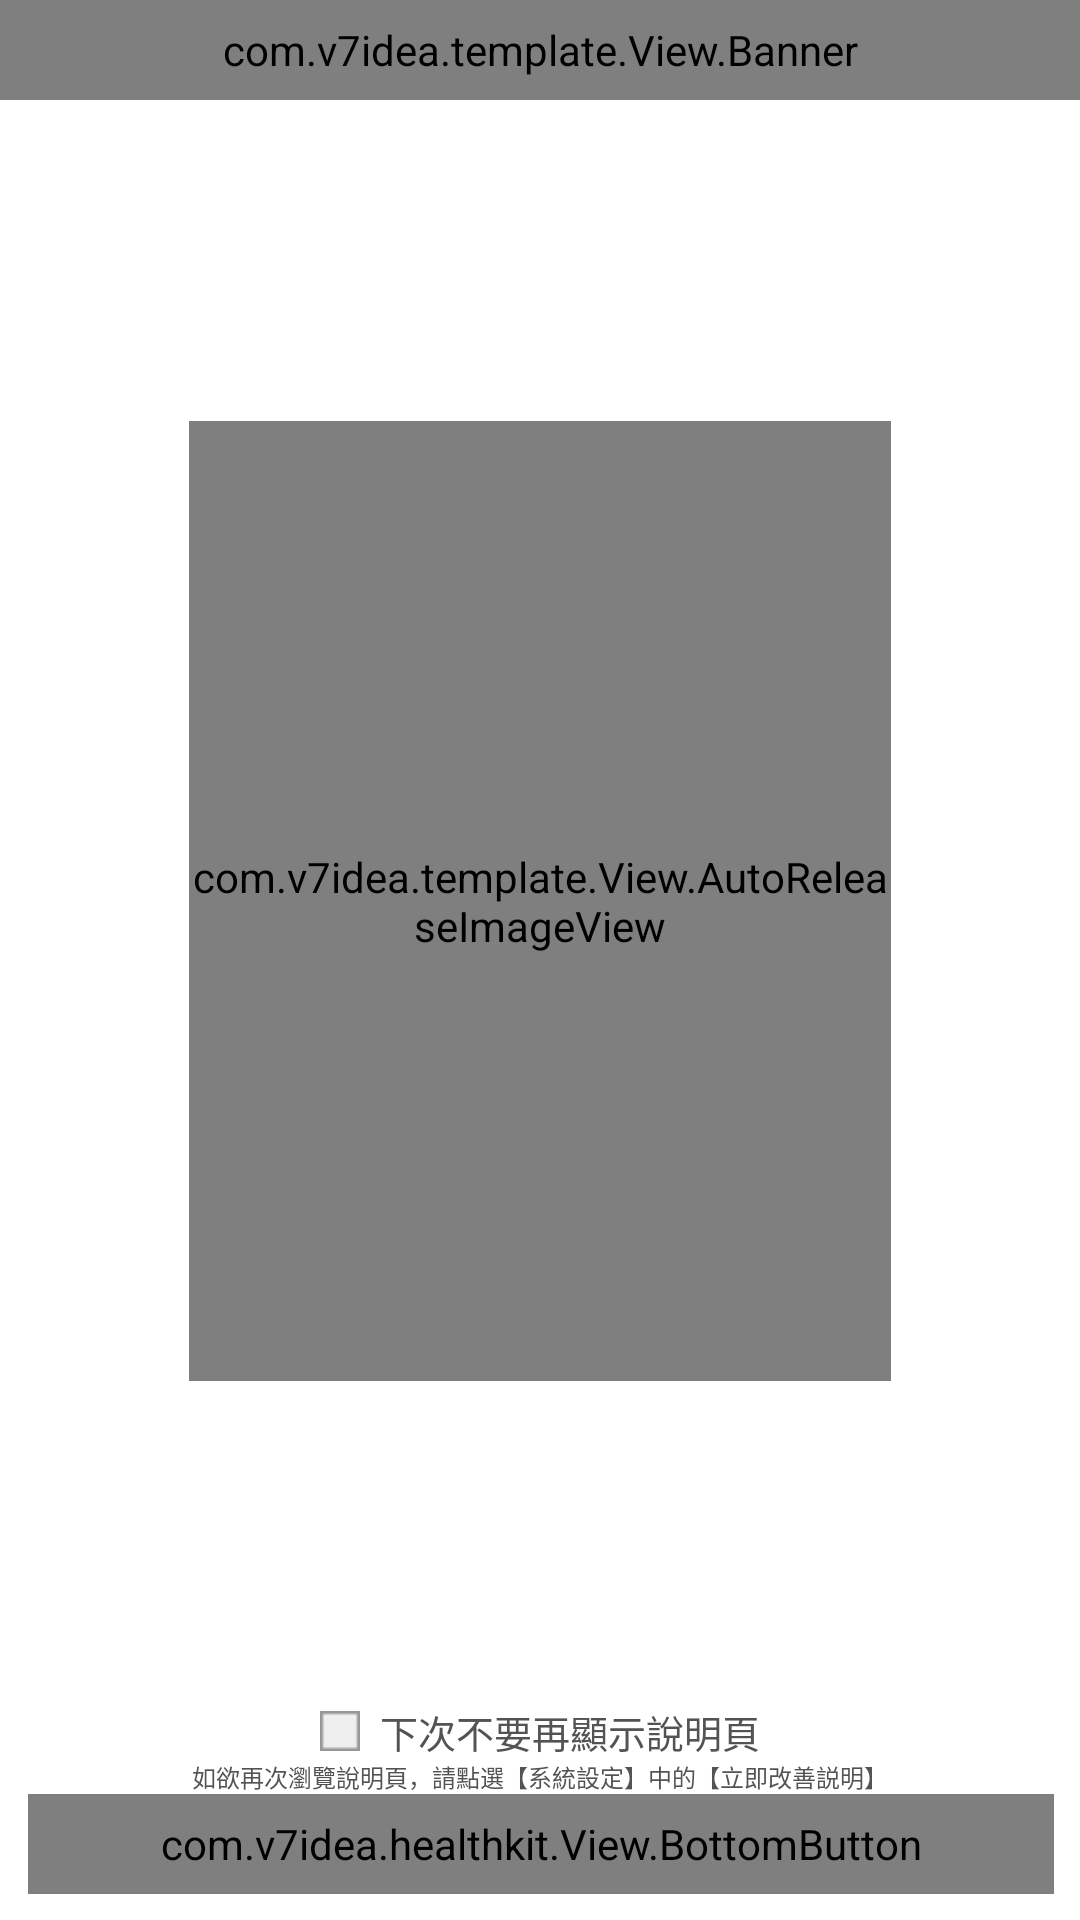

Icons on this 1080px x 1920px Android screen, each with the point to tap as (x=x, y=y):
check box: (x=340, y=1731)
